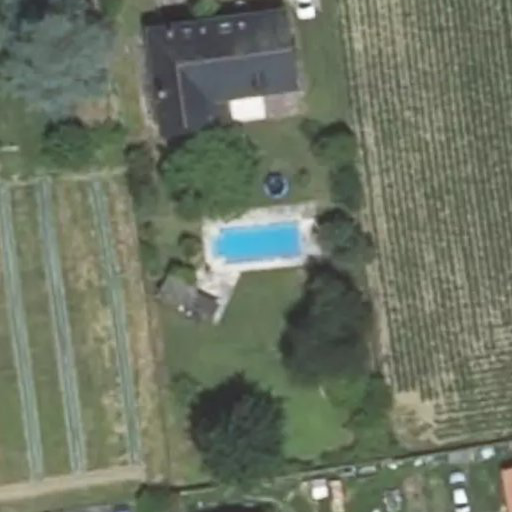pool: (212, 230, 298, 254)
